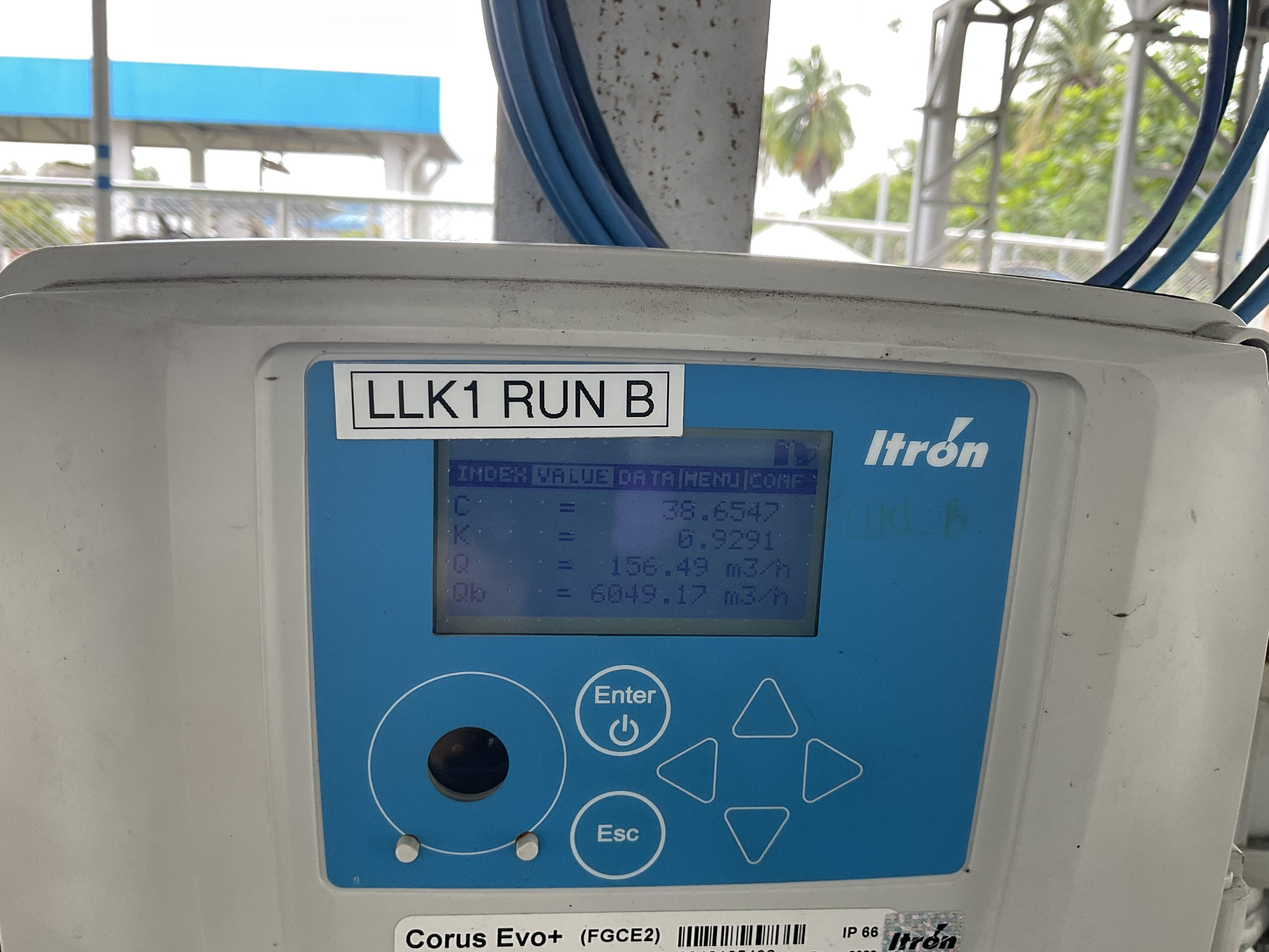digital_screen: (433, 422, 834, 636)
